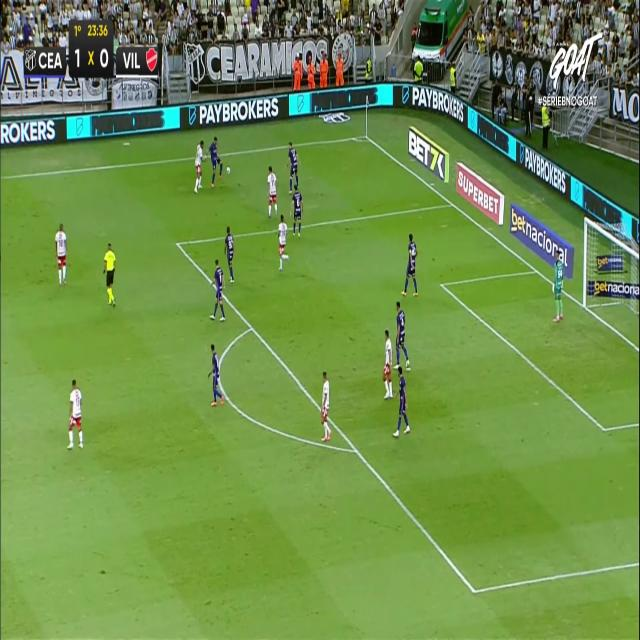ball: (224, 164, 231, 178)
goalkeeper: (552, 252, 564, 321)
player: (393, 369, 410, 437), (67, 378, 83, 449), (395, 300, 411, 371), (400, 232, 418, 295), (209, 259, 226, 321), (208, 342, 224, 406), (55, 223, 67, 284), (208, 135, 222, 187), (290, 183, 303, 239), (321, 371, 331, 440), (286, 141, 299, 194), (277, 214, 289, 271), (383, 330, 393, 398), (194, 138, 205, 193), (267, 165, 278, 218), (225, 225, 235, 283)
referee: (103, 242, 116, 307)
